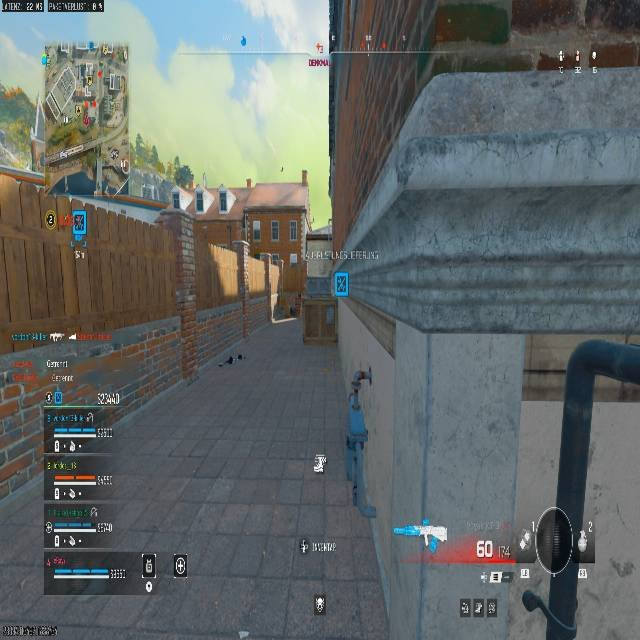player: (519, 506, 578, 639)
